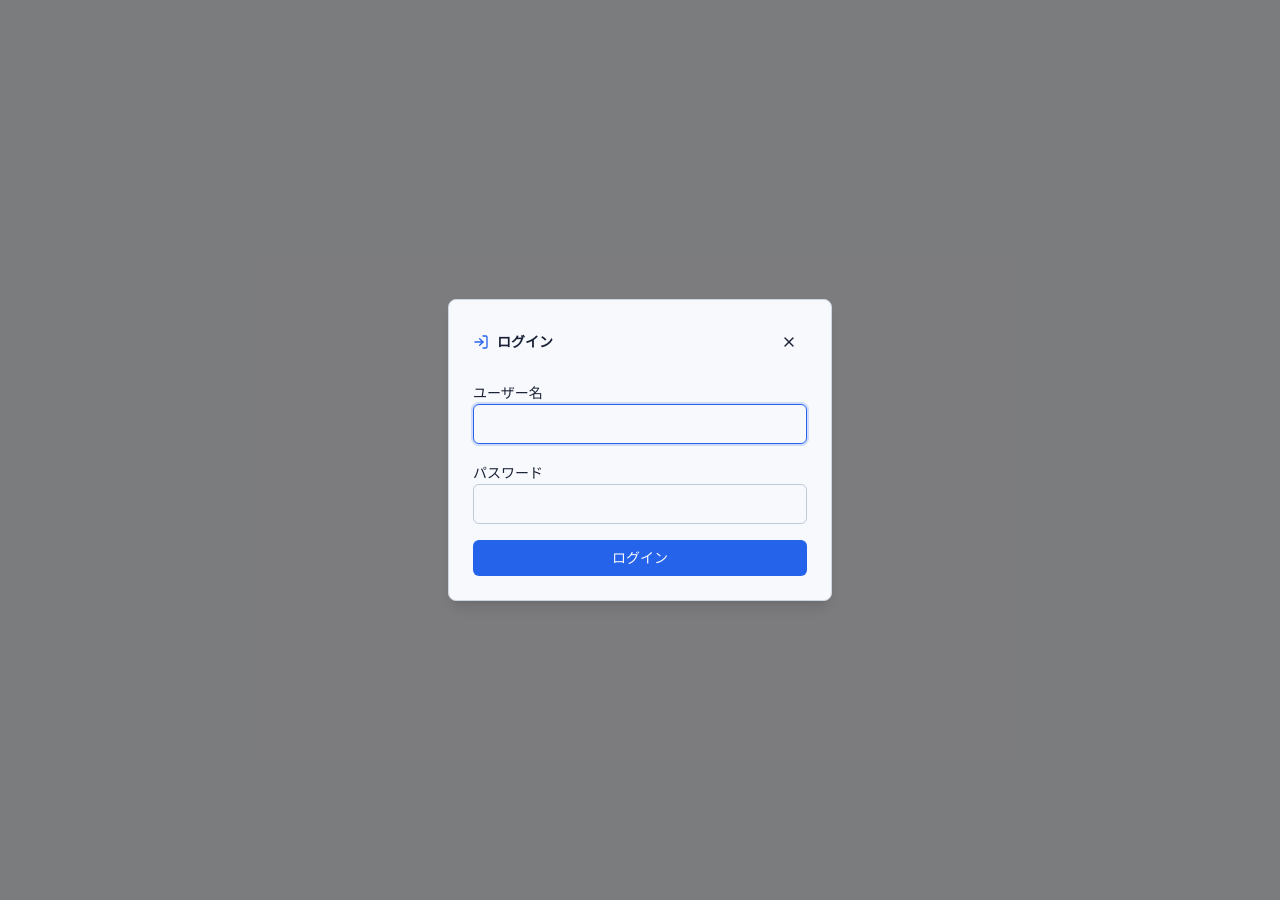
it: LoginDialog › 429の場合は試行回数制限を表示し、処理中は二重送信を防ぐ
The image size is (1280, 900).
Type "operator" into the field labelled "ユーザー名" at x=640, y=424, box top-left (473, 404), bottom-right (807, 444)
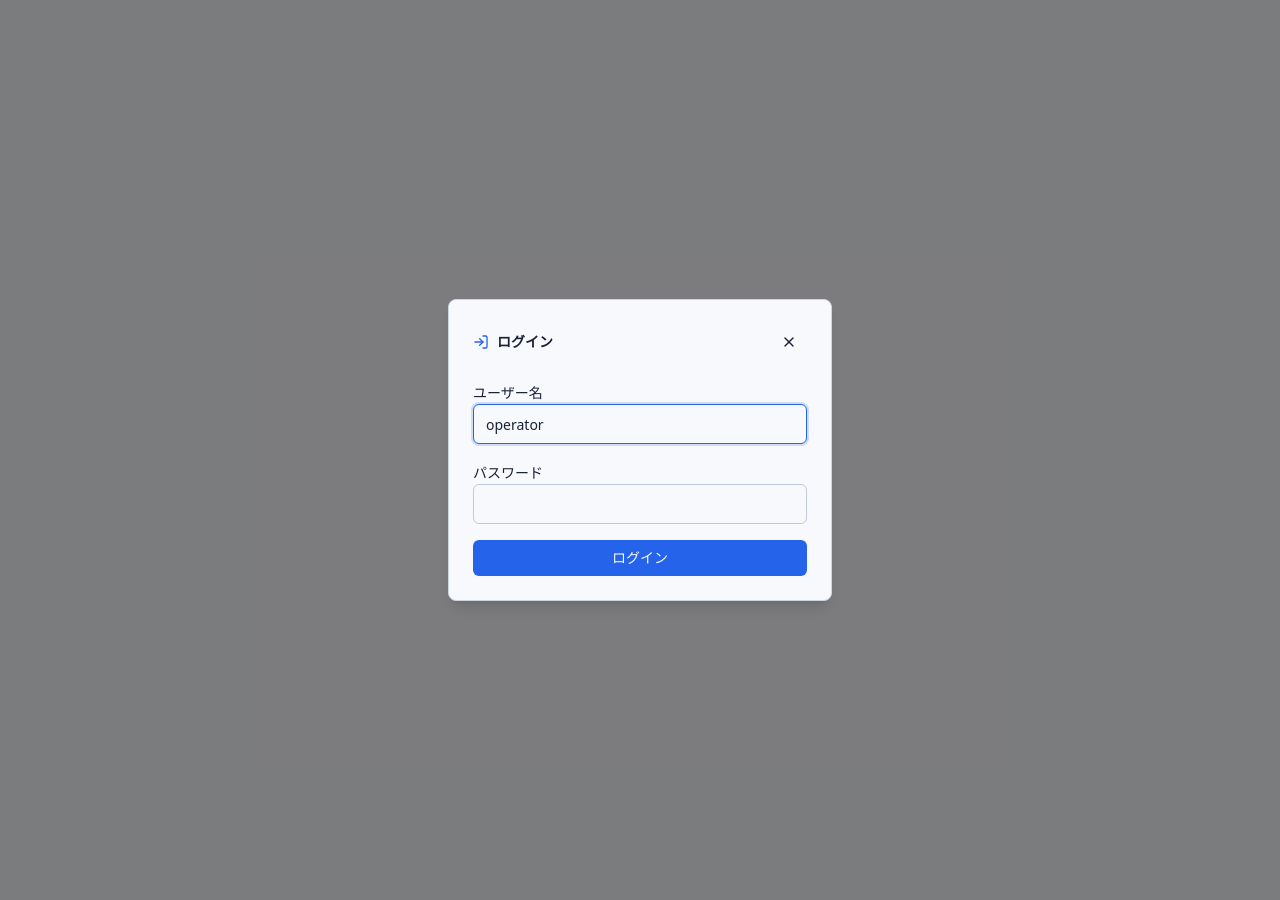
Type "wrong-password" into the password field labelled "パスワード" at x=640, y=504, box top-left (473, 484), bottom-right (807, 524)
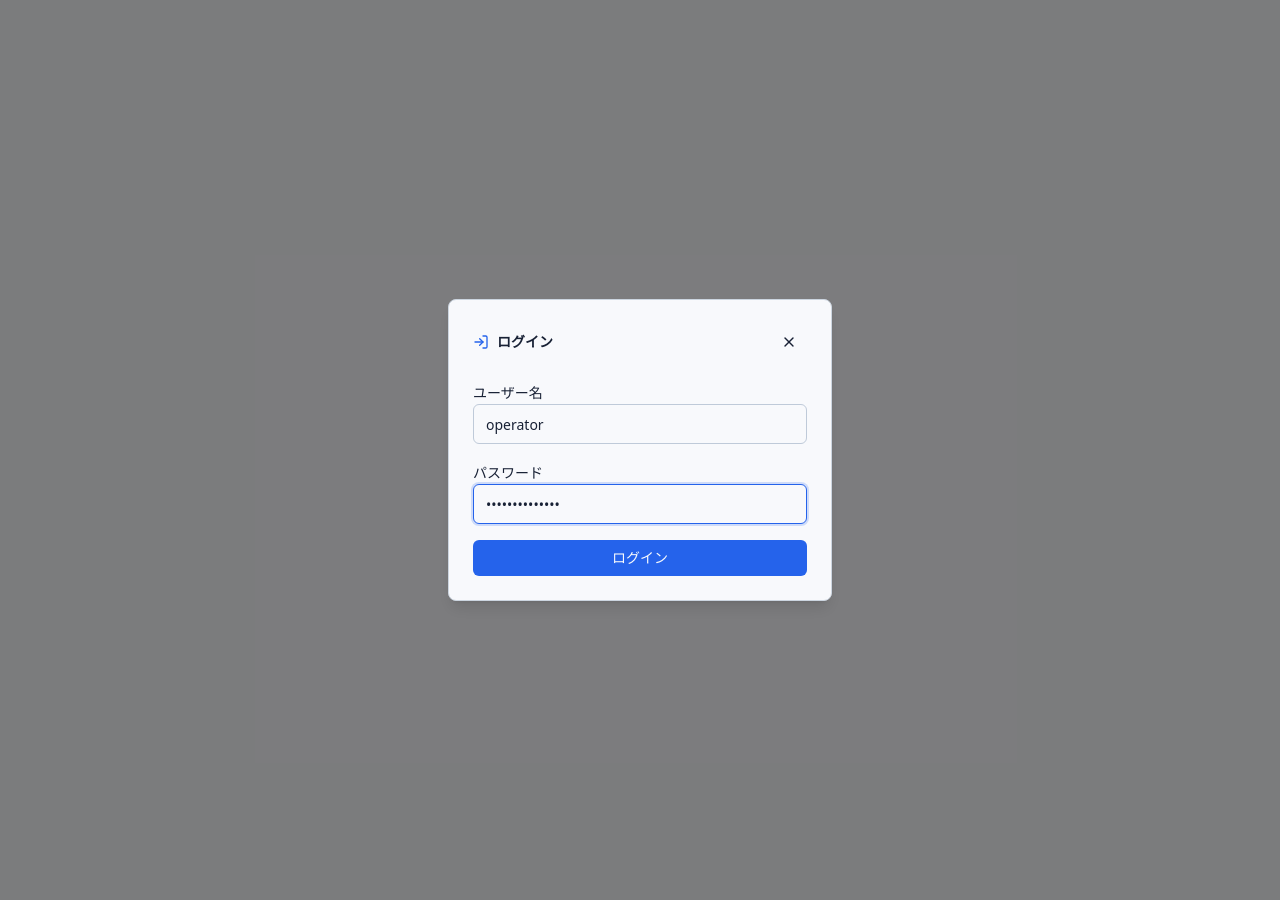
Click the button "ログイン" at x=640, y=558, box top-left (473, 540), bottom-right (807, 576)
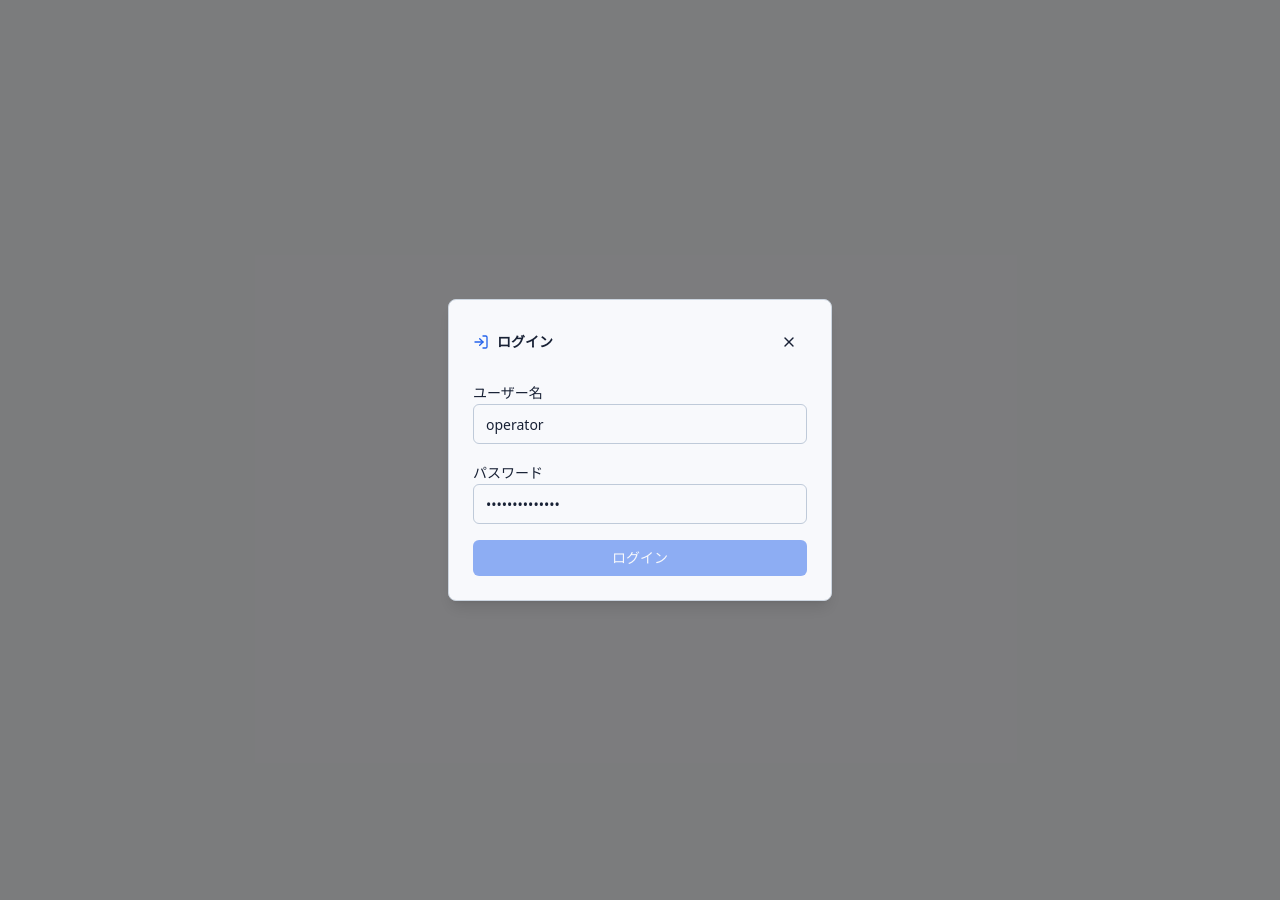
Now the button "ログイン" is disabled
Click the button "ログイン" at x=640, y=558, box top-left (473, 540), bottom-right (807, 576)
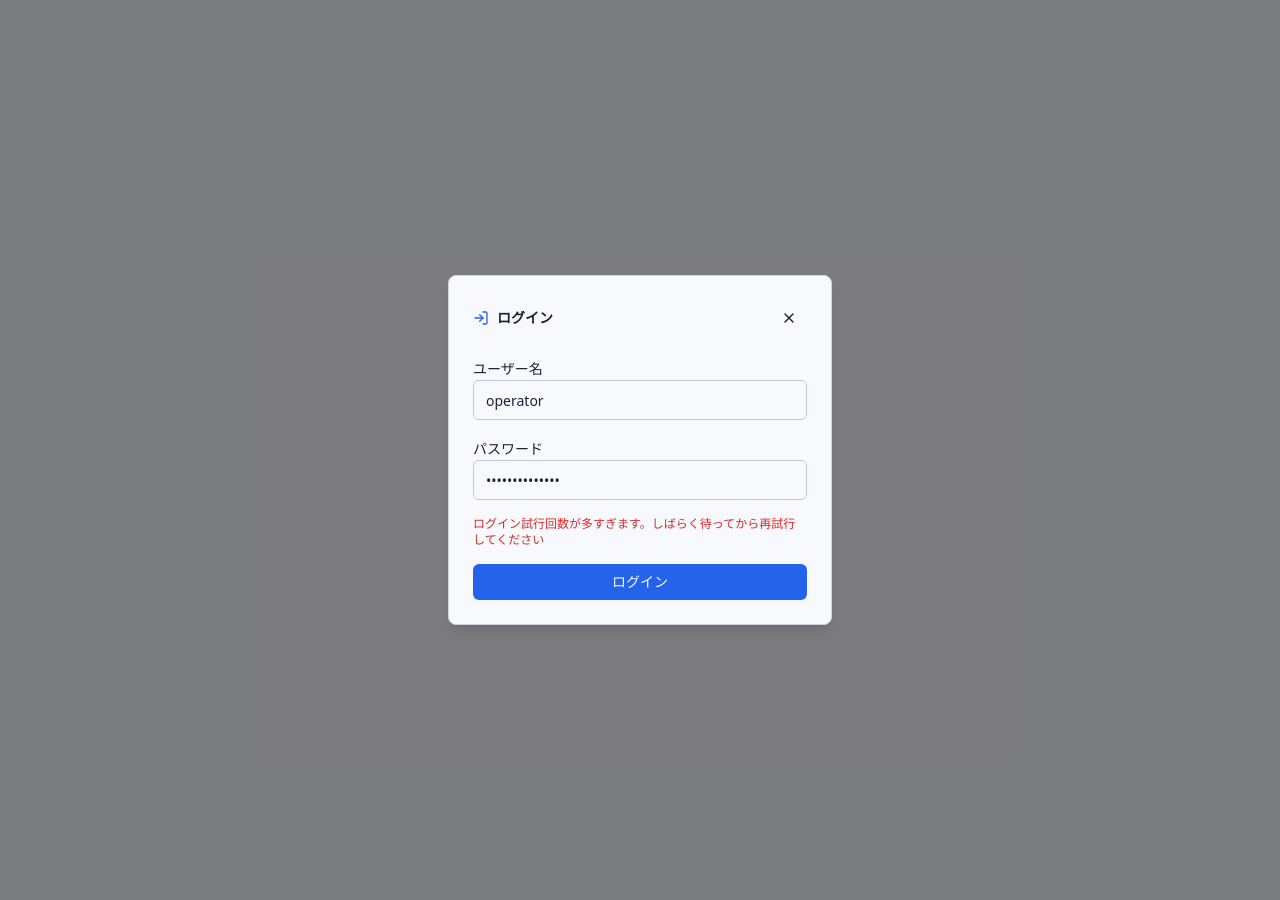
Now the message reads "ログイン試行回数が多すぎます。しばらく待ってから再試行してください", box top-left (473, 515), bottom-right (795, 548)
Now the button "ログイン" is enabled, box top-left (473, 564), bottom-right (807, 600)
